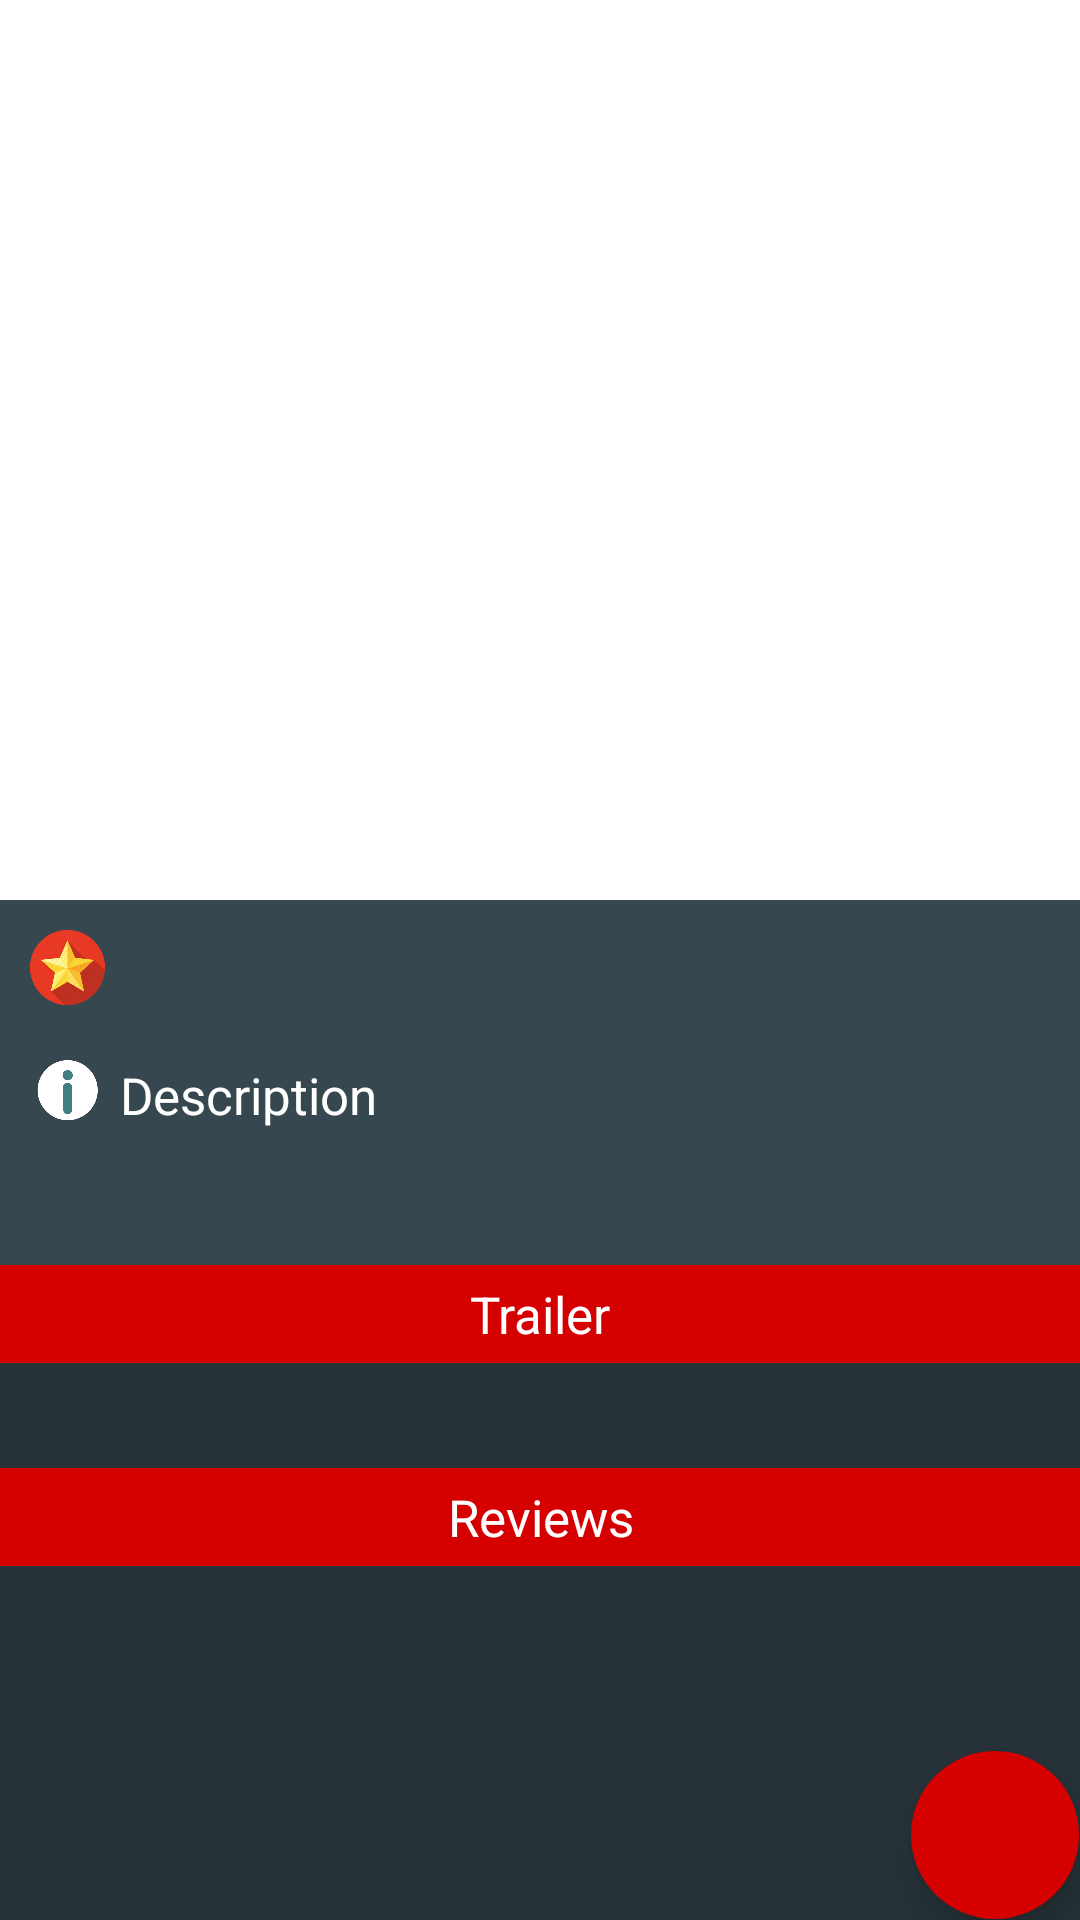

Locate icon controls on the screen. Image size 1080px×1920px, boxes as (x1, y1, x2, y2).
rateicon: (30, 930, 105, 1005)
